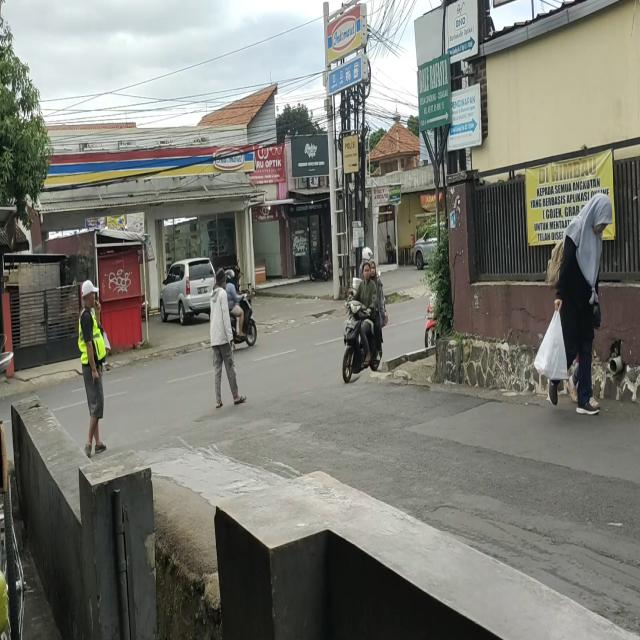helmet: (362, 247, 372, 260)
no-helmet: (362, 262, 370, 280), (370, 262, 377, 278)
